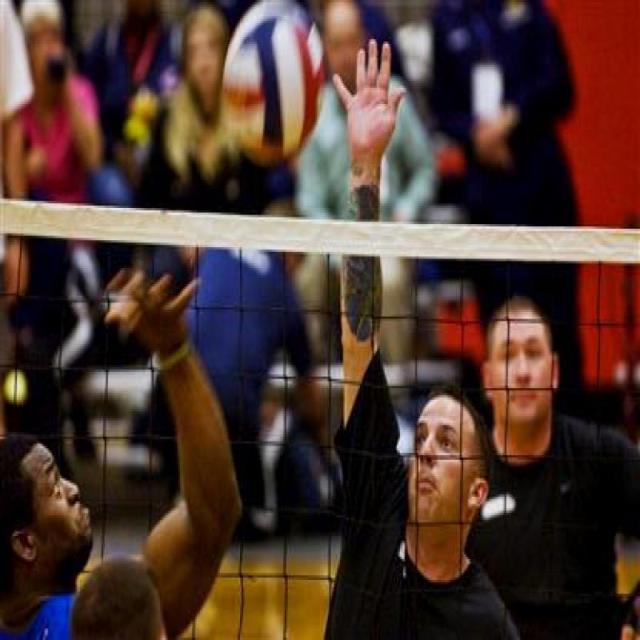volleyball: (220, 0, 325, 169)
